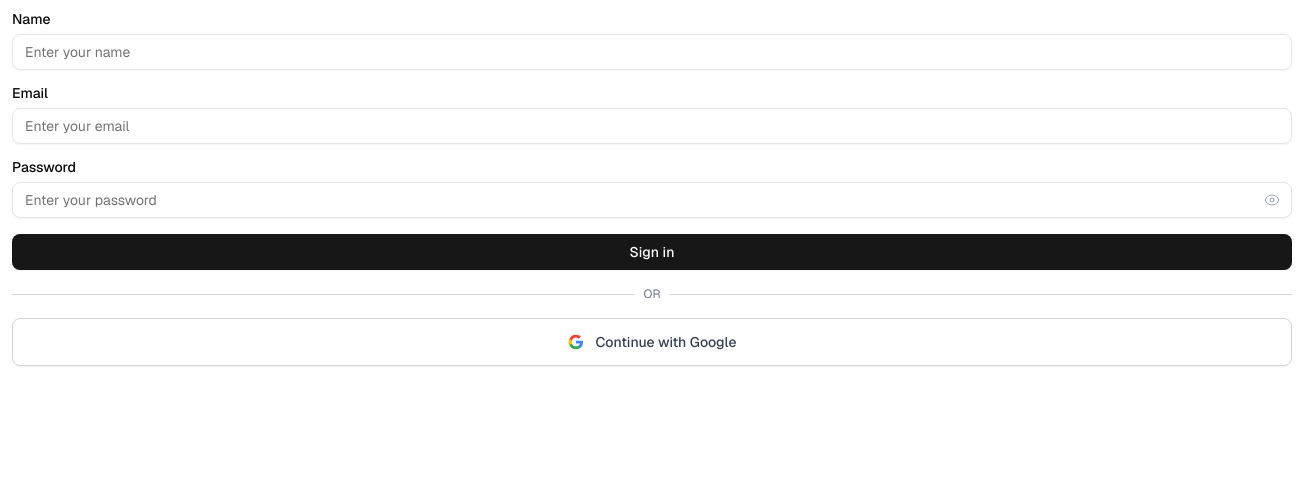
Test: SignUpForm Component › Password Requirements Display › shows green checkmarks for met requirements
Type "ValidPassword123!" into the password field labelled "Password" at x=652, y=200, box [12,182,1292,218]
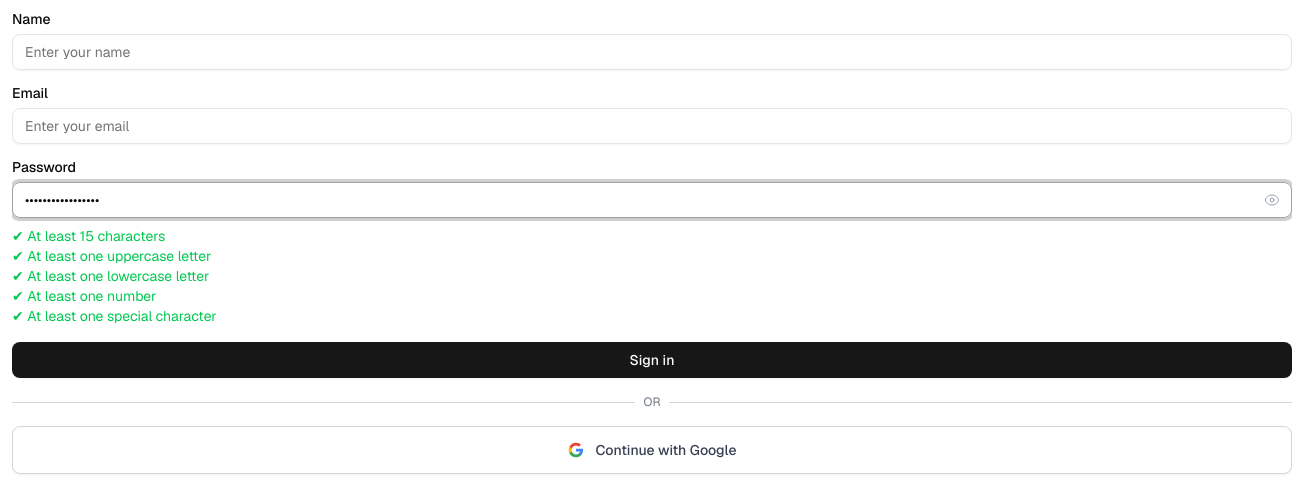
Result: the number of list items "✔ At least 15 characters" is 5 at [12,227,165,245]; [12,247,211,265]; [12,267,209,285]; [12,287,156,305]; [12,307,217,325]
